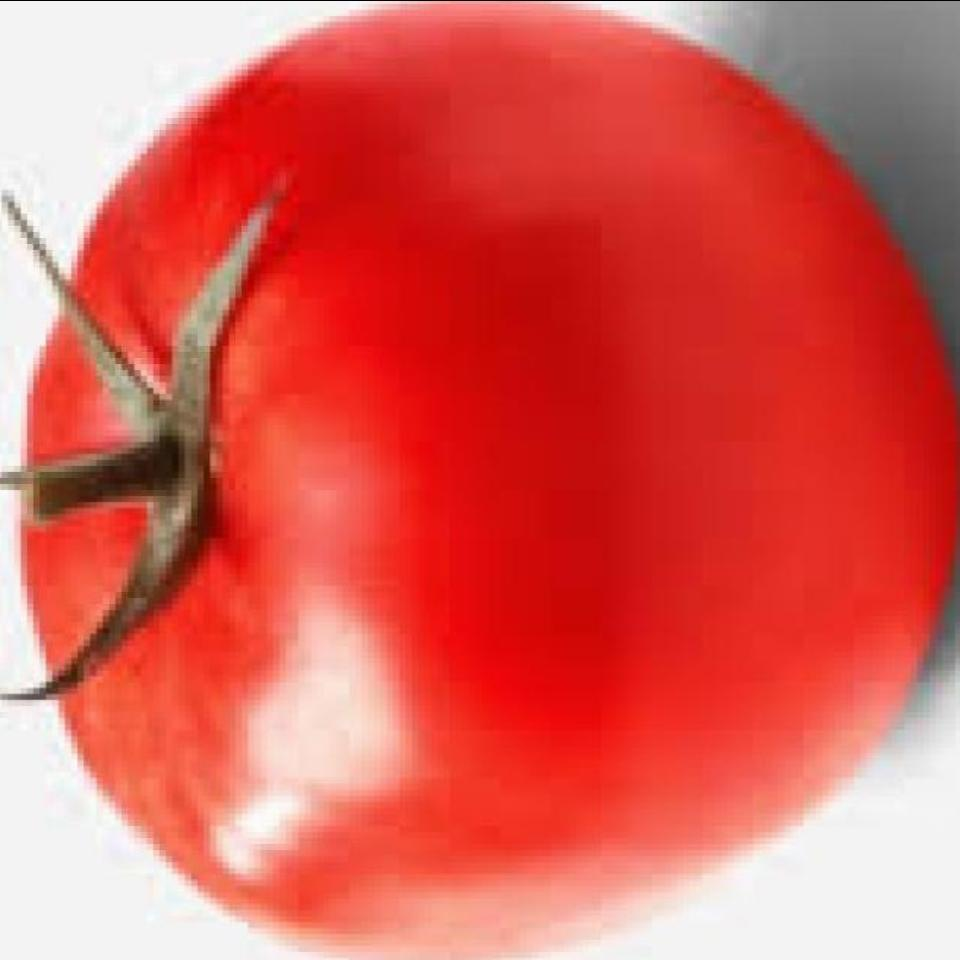Healthy: (24, 0, 960, 919)
